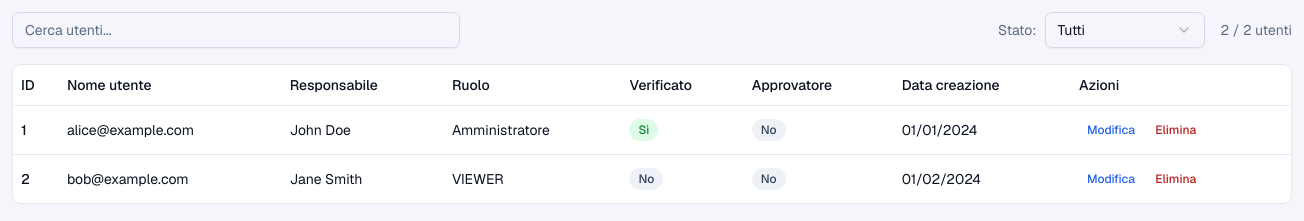
Scenario: UserTable › shows Clear button when verified filter is set and clears on click
What coordinates should you click on to do the following:
click the dropdown named "filtra per stato di verifica"
I would click on:
 (1124, 30)
Its box is [1044,12,1204,48].
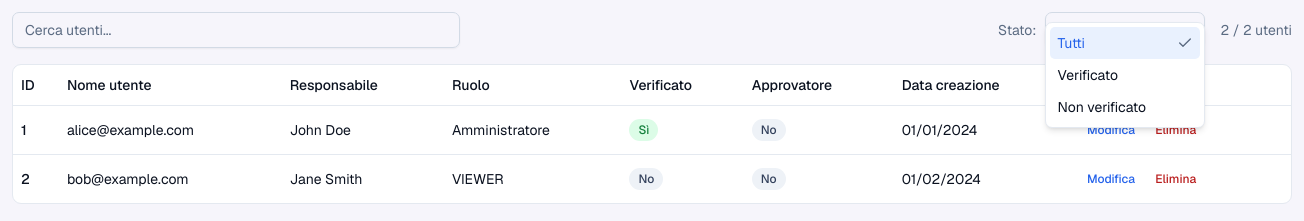
What coordinates should you click on to do the following:
click the option "Verificato"
I would click on:
 (1088, 75)
Its box is [1058,66,1118,84].
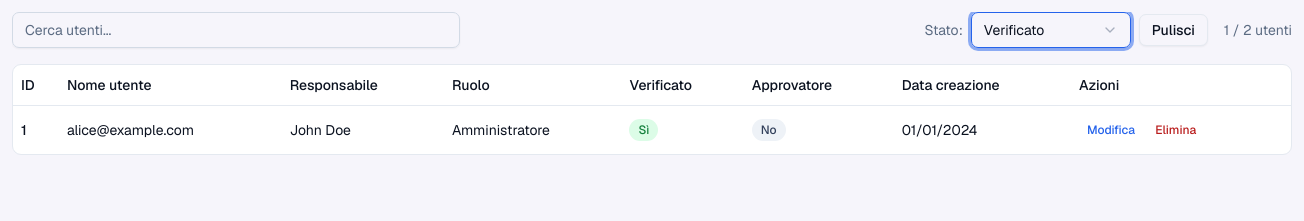
Expected: the button "Pulisci" is shown
What coordinates should you click on to do the following:
click the button "Pulisci"
I would click on:
 (1173, 30)
Its box is [1139,14,1208,46].
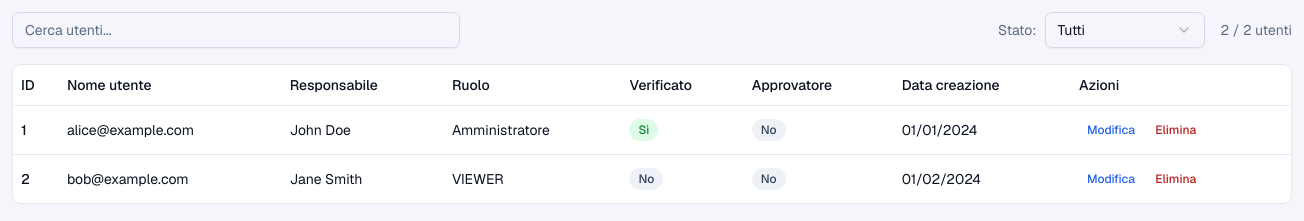
Expected: the button "Pulisci" is gone
